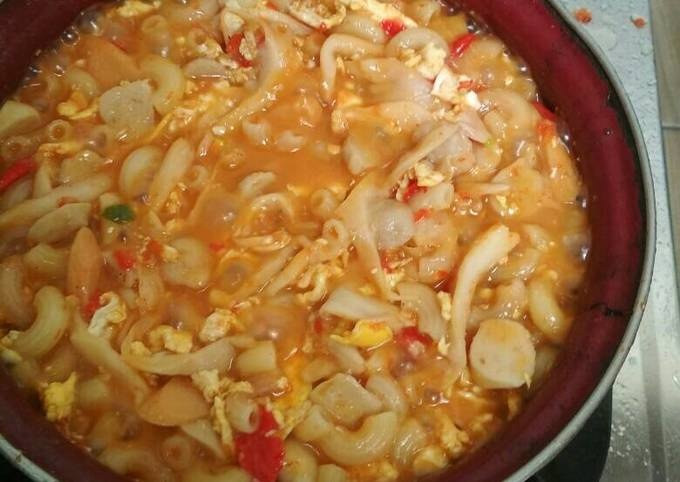seblak: (4, 1, 588, 482)
